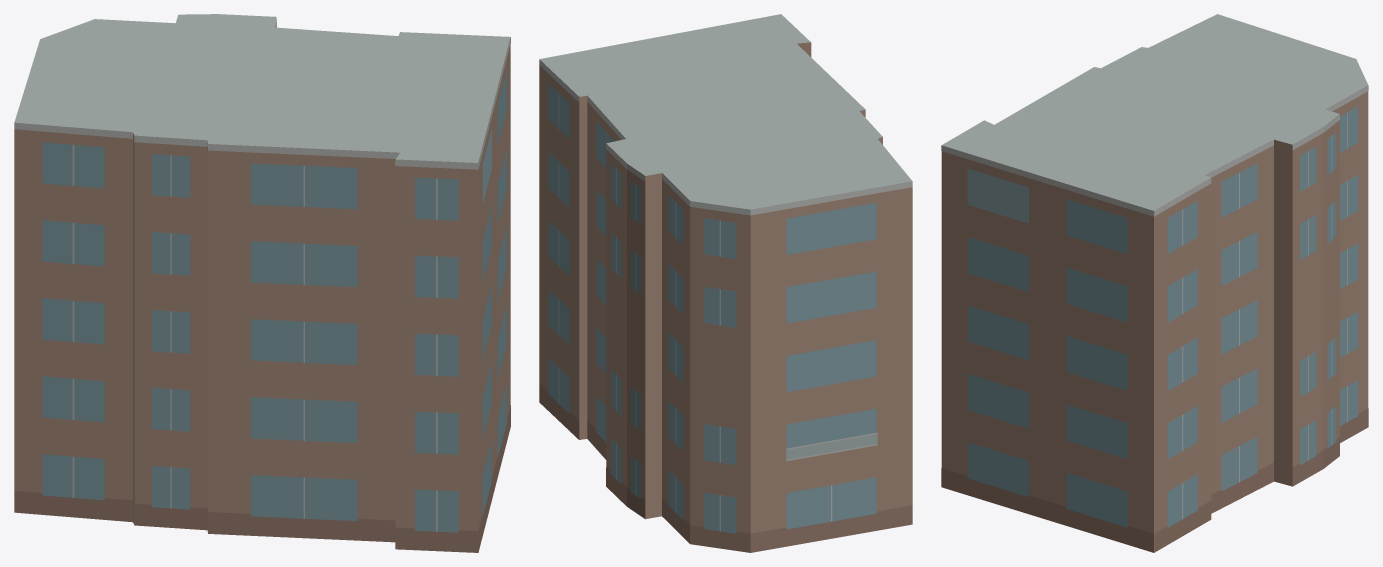
File: survey-upis-32689104.glb
3 views of the same model, side by side, from view 1: azimuth 30°, elevation 25°; view 2: azimuth 150°, elevation 25°; view 3: azimuth 270°, elevation 25° (orthographic). The views are drawn at different scales.
Visible parts, largest first — view 1: survey-upis-32689104.tmp; view 2: survey-upis-32689104.tmp; view 3: survey-upis-32689104.tmp.
Part boxes in pixels (x1,y1,x2,y2): survey-upis-32689104.tmp: (14,14,510,552); survey-upis-32689104.tmp: (539,14,912,552); survey-upis-32689104.tmp: (941,14,1368,552).
Size of the model in its own units: 17.8 by 14.4 by 16.31.
